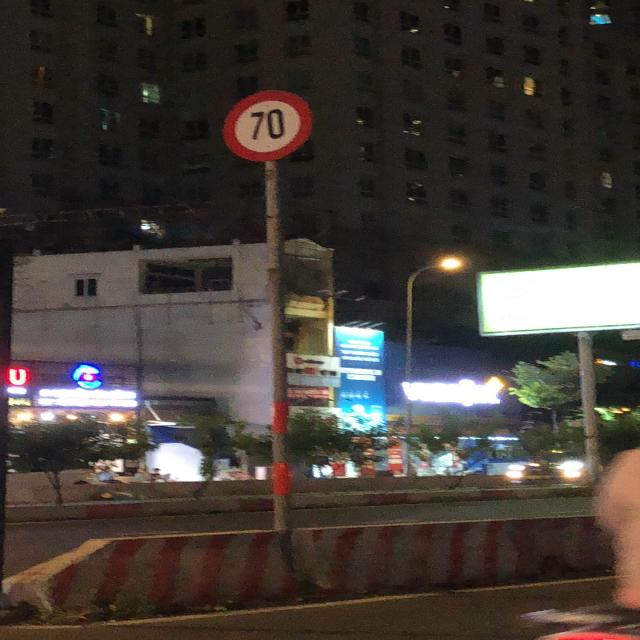Bien bao toc do toi da cho phep: (217, 85, 314, 168)
